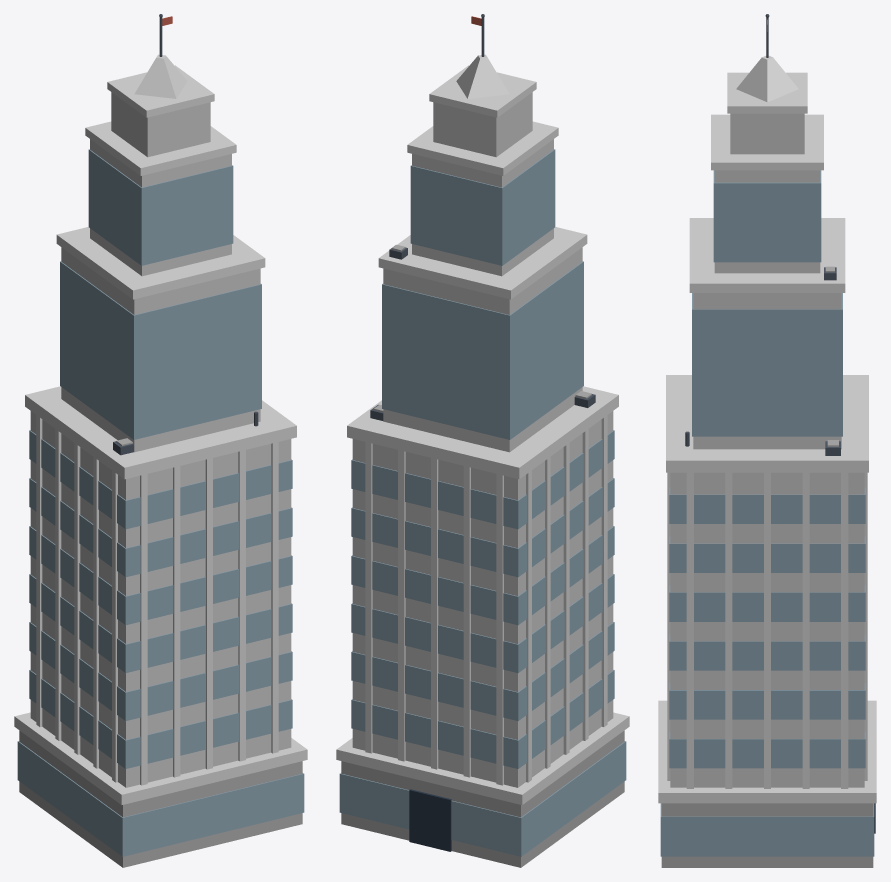
File: building_large_setback.glb
3 renders of one model, left to right at view 1: azimuth 30°, elevation 25°; view 2: azimuth 150°, elevation 25°; view 3: azimuth 270°, elevation 25°, orthographic.
Parts seen in each view (by area): view 1: building_large_setback; view 2: building_large_setback; view 3: building_large_setback.
Boxes of the visible parts, bbox=[...] form: building_large_setback: bbox=[14, 14, 307, 867]; building_large_setback: bbox=[336, 14, 629, 867]; building_large_setback: bbox=[658, 14, 876, 867].
Bounding box in the file's own units: 15.3 × 62.49 × 15.3.
